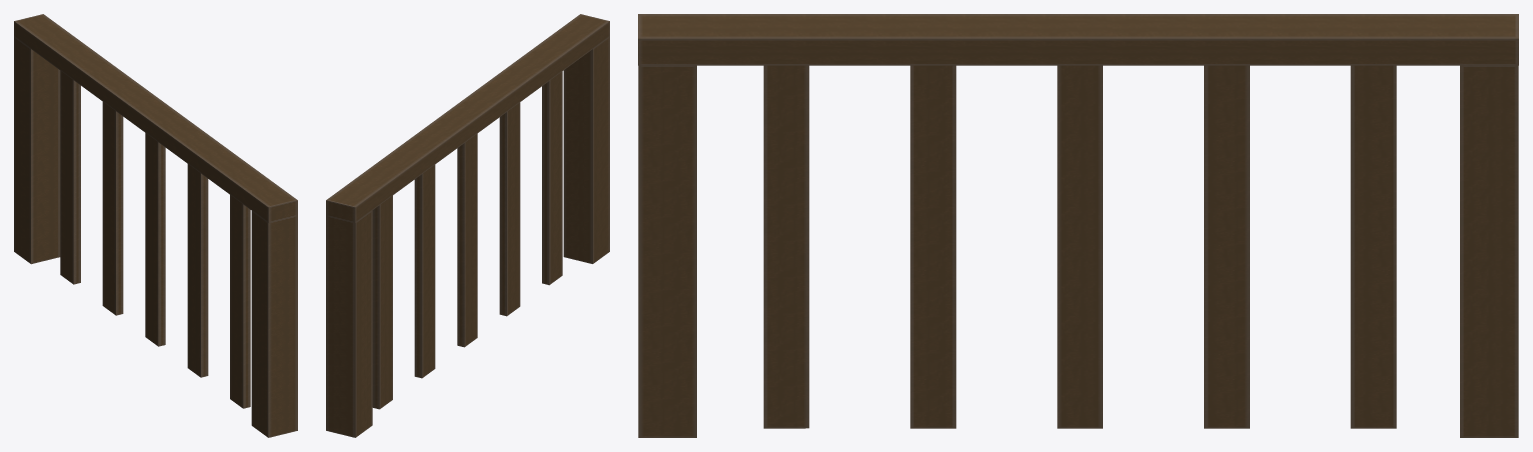
File: Railing.fbx
3 views of the same model, side by side, from view 1: azimuth 30°, elevation 25°; view 2: azimuth 150°, elevation 25°; view 3: azimuth 270°, elevation 25° (orthographic). The views are drawn at different scales.
Parts seen in each view (by area): view 1: Railing; view 2: Railing; view 3: Railing.
Boxes of the visible parts, bbox=[...] form: Railing: bbox=[14, 14, 297, 437]; Railing: bbox=[326, 14, 609, 437]; Railing: bbox=[638, 14, 1518, 437].
Bounding box in the file's own units: 21.09 × 158 × 316.
